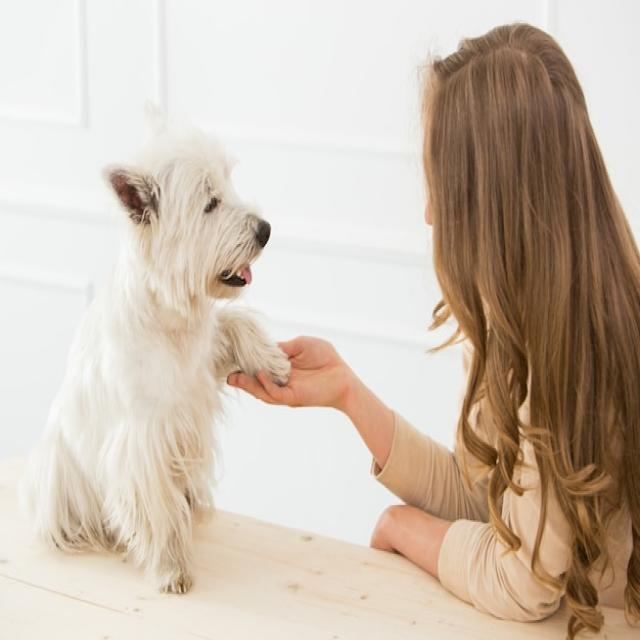Dog: (21, 123, 292, 595)
Person: (228, 20, 640, 640)
